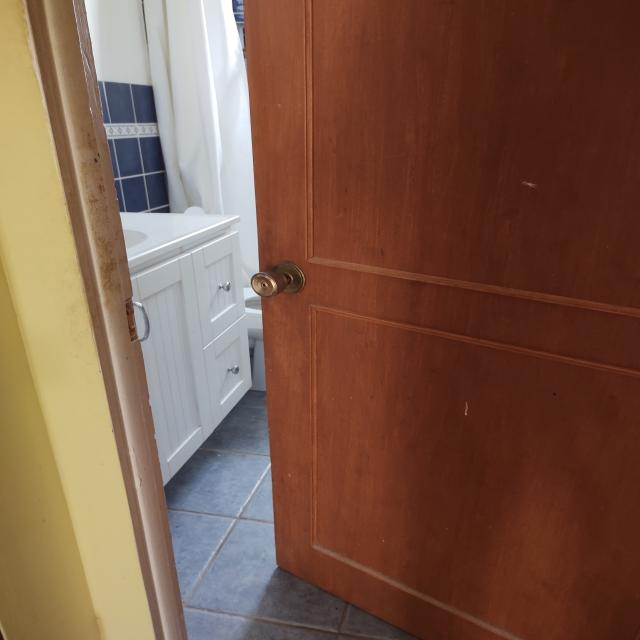door-knob: (251, 261, 306, 298)
